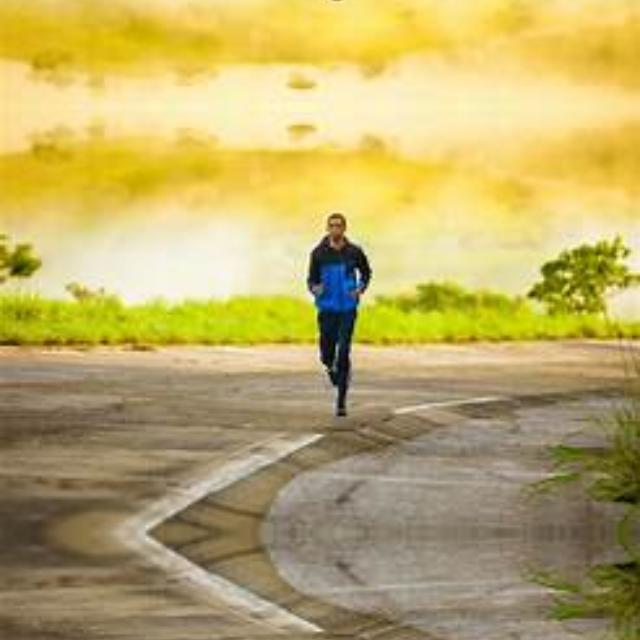person: (298, 203, 378, 415), (298, 0, 377, 9)
